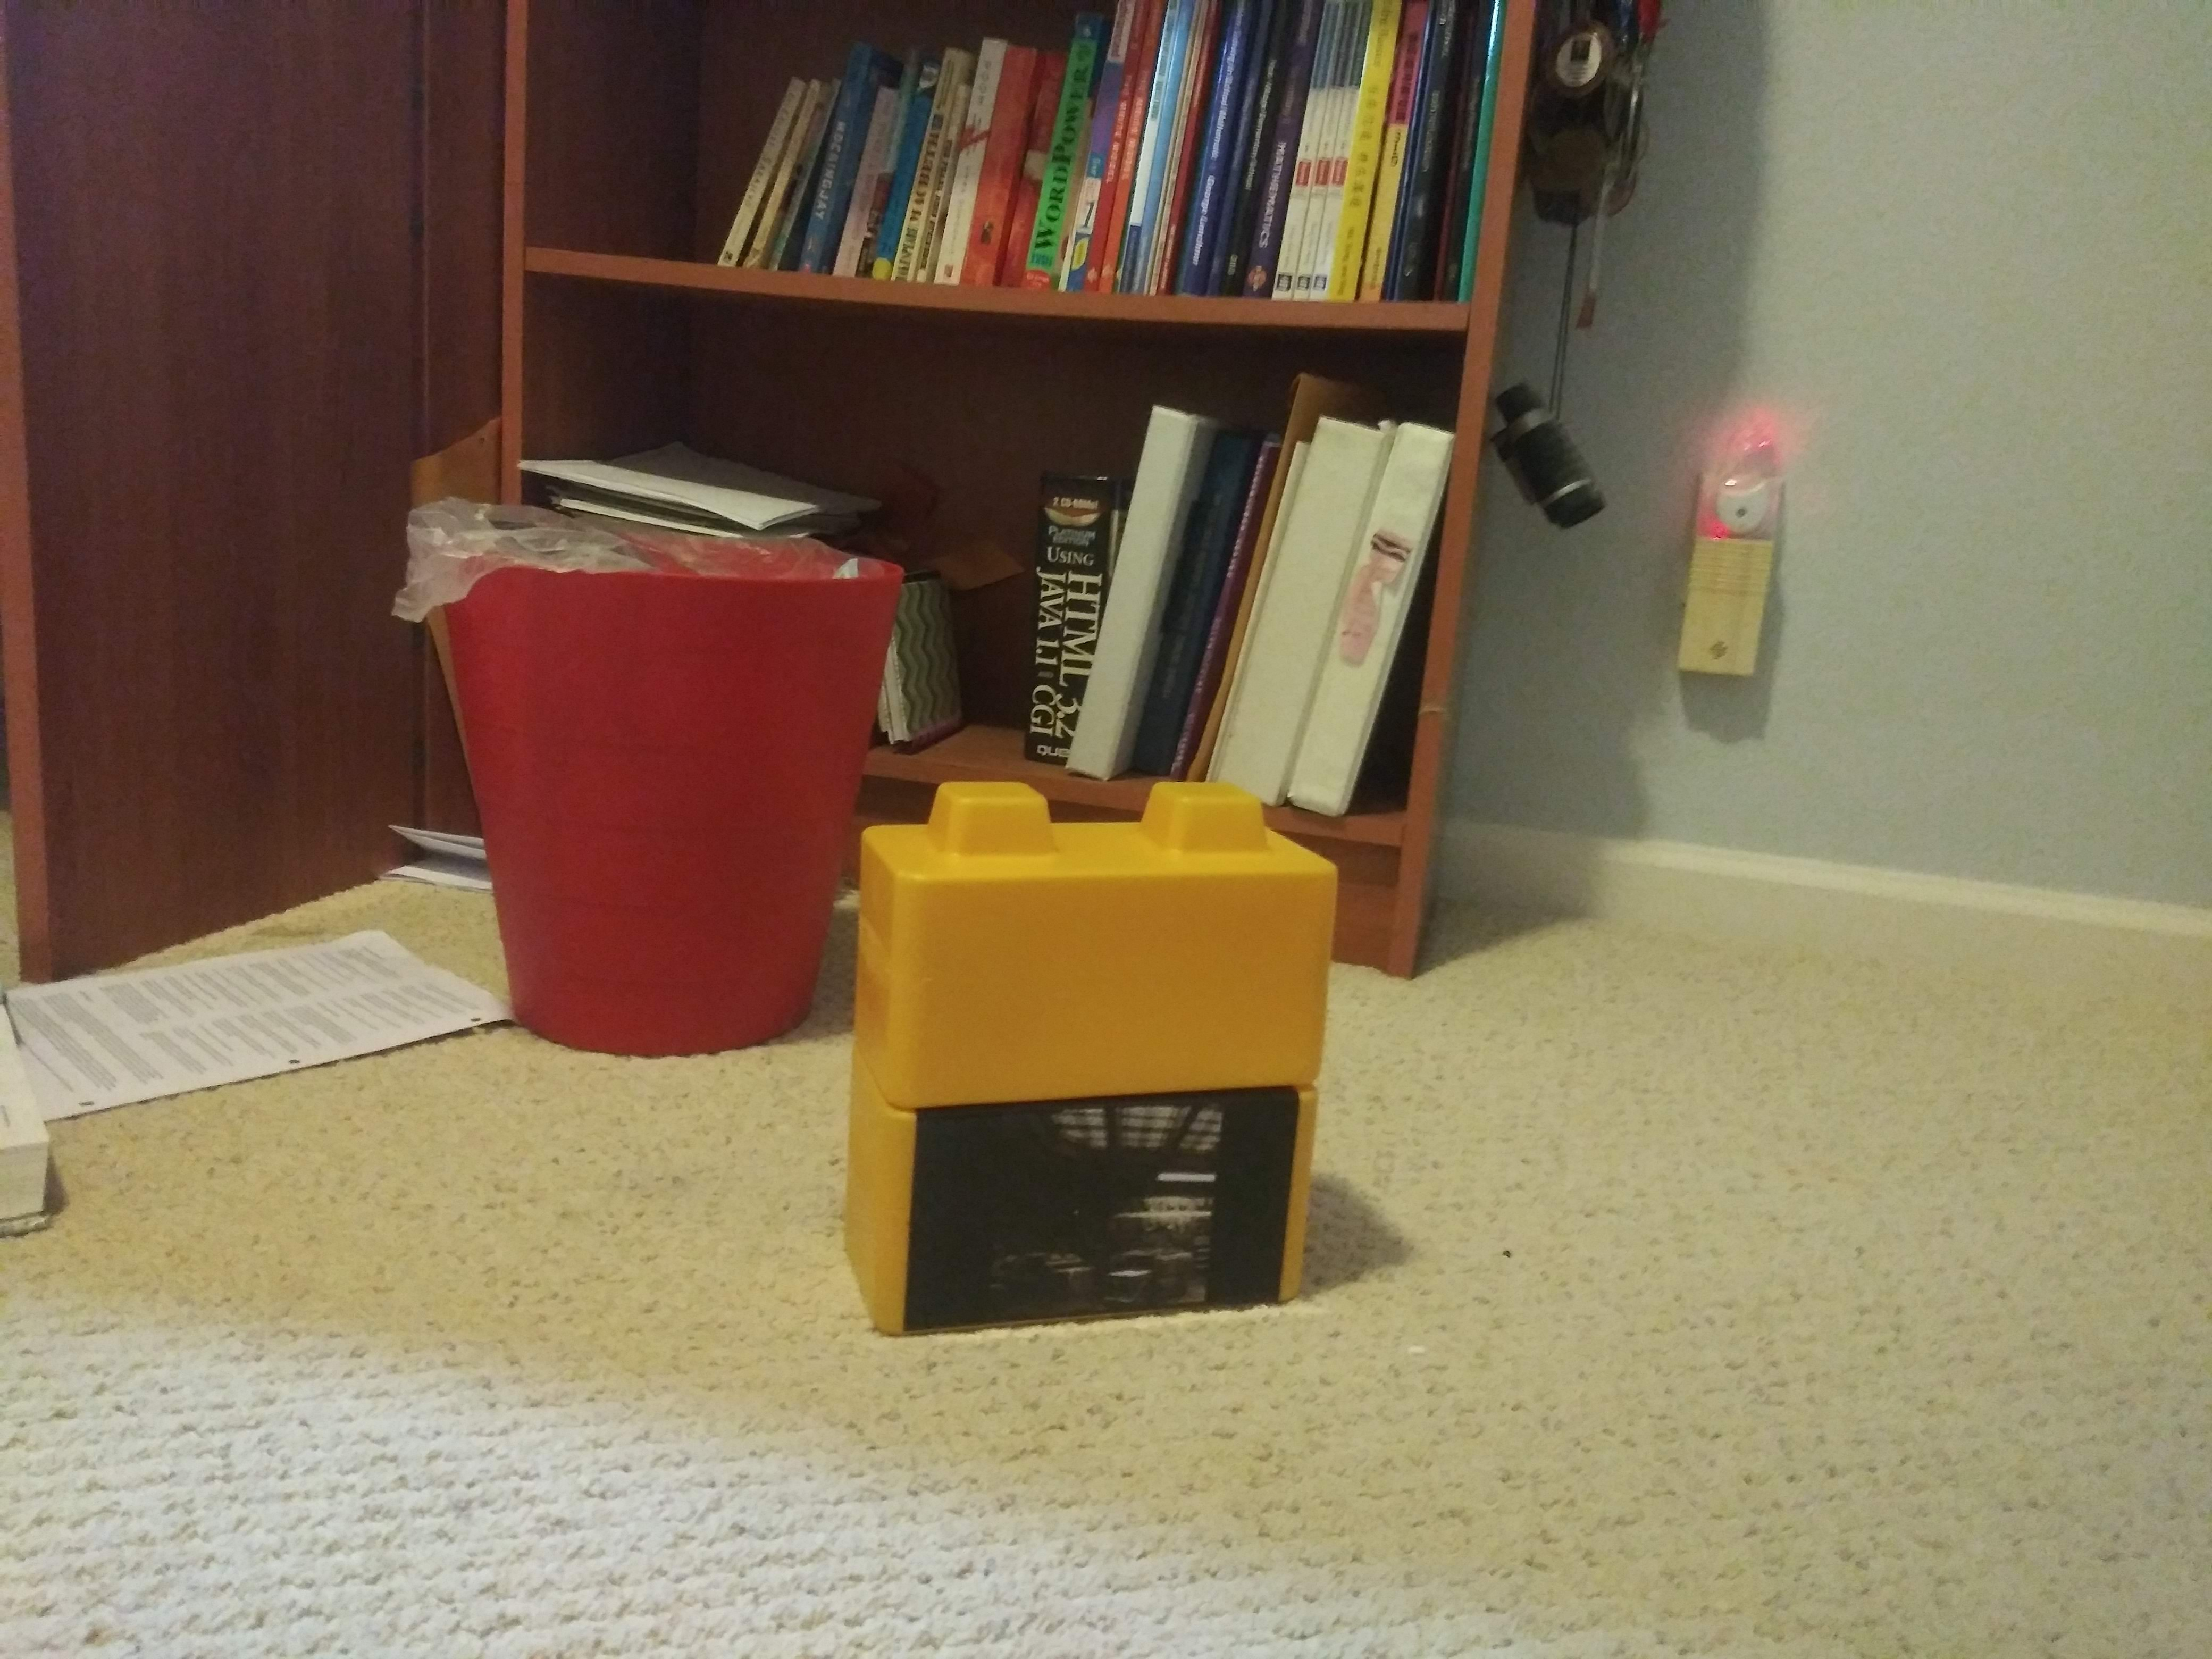skystone: (880, 1108, 1306, 1326)
stone: (874, 828, 1338, 1079)
